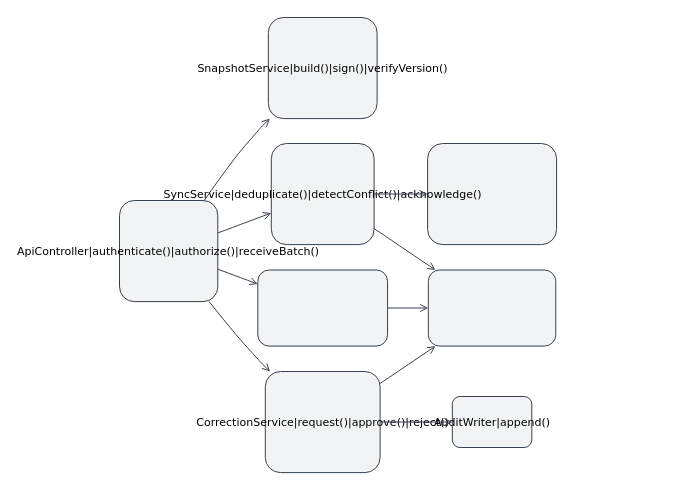
Image size: 694x491. Some labels were removed from this diagram. The box of each missing label's shape, as (x1, y1, x2, y2) in pixels:
AttendanceValidator|verifyPermit()|verifyChallenge()|classifyTime(): (427, 142, 557, 245)
Repository|appendEvent()|readCurrentStatus(): (427, 269, 556, 346)
RiskCalculator|attendancePercent()|riskList(): (257, 269, 388, 346)
